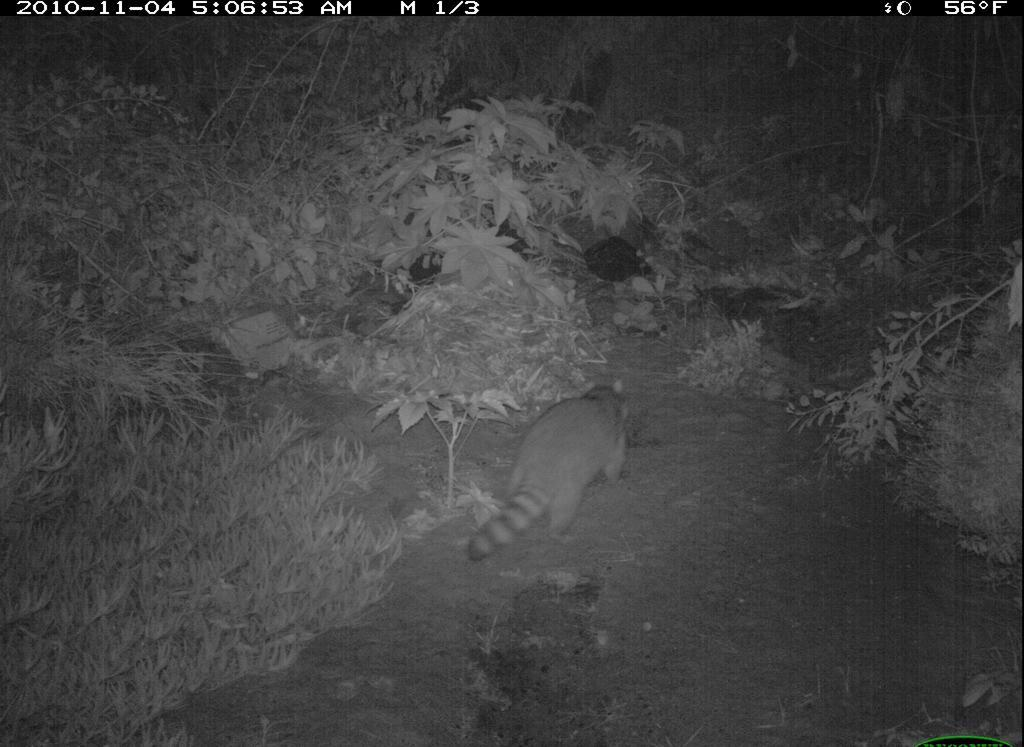raccoon: (457, 354, 649, 565)
